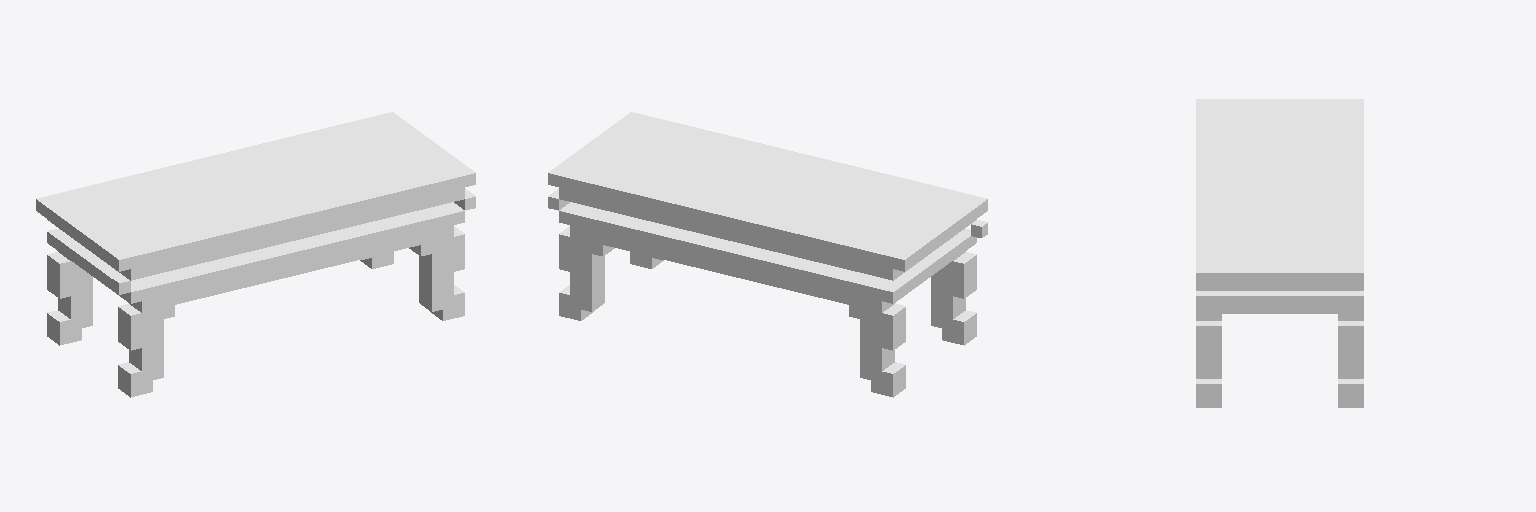
File: Table-0-b18.obj
The picture shows the model from 3 angles: view 1: azimuth 30°, elevation 25°; view 2: azimuth 150°, elevation 25°; view 3: azimuth 270°, elevation 25°; orthographic projection.
Visible parts, largest first — view 1: b18; view 2: b18; view 3: b18.
Boxes of the visible parts, <box> form: b18: <box>36,112,475,397</box>; b18: <box>548,112,987,397</box>; b18: <box>1196,99,1363,407</box>.
Bounding box in the file's own units: 3.2 × 1.2 × 1.3.